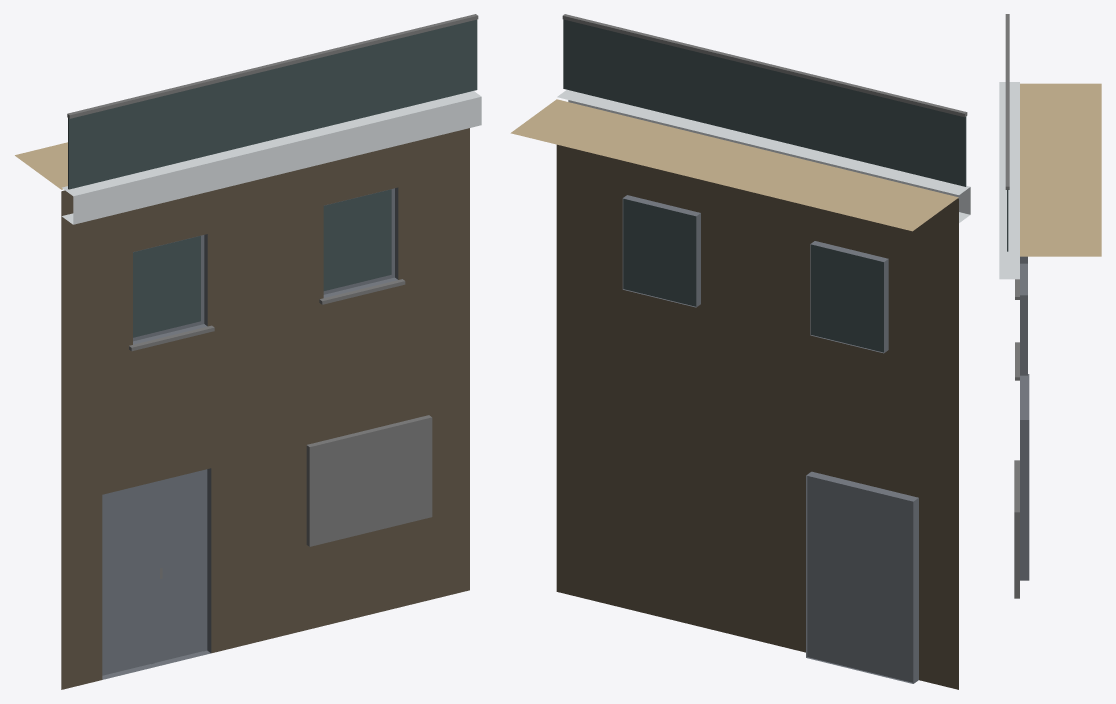
3 renders of one model, left to right at view 1: azimuth 30°, elevation 25°; view 2: azimuth 150°, elevation 25°; view 3: azimuth 270°, elevation 25°, orthographic. The views are drawn at different scales.
Visible parts, largest first — view 1: a2010/0/base-w3; view 2: a2010/0/base-w3; view 3: a2010/0/base-w3.
Part boxes in pixels (bbox=[...]): a2010/0/base-w3: bbox=[15, 14, 481, 689]; a2010/0/base-w3: bbox=[510, 14, 970, 689]; a2010/0/base-w3: bbox=[999, 14, 1101, 598].
Bounding box in the file's own units: 6 × 8.15 × 1.5.
